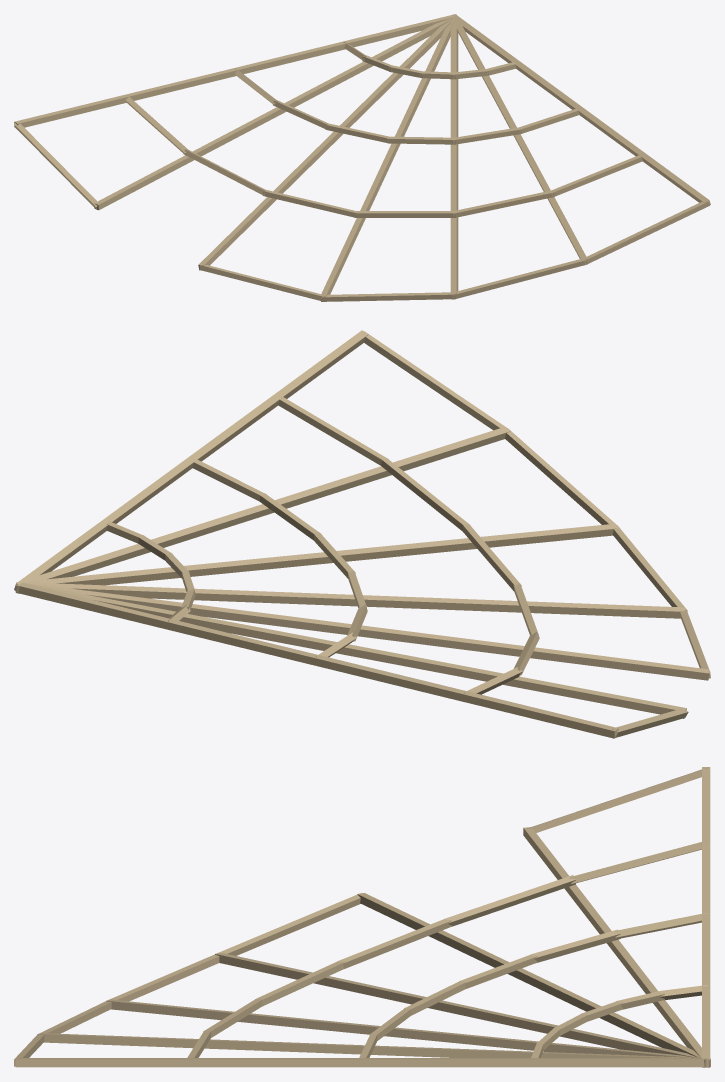
Rendered from mdvl_dungeon_web_01.glb.
The picture shows the model from 3 angles, top to bottom: view 1: azimuth 30°, elevation 25°; view 2: azimuth 150°, elevation 25°; view 3: azimuth 270°, elevation 25°; orthographic projection. The views are drawn at different scales.
Parts seen in each view (by area): view 1: mdvl_dungeon_web_01; view 2: mdvl_dungeon_web_01; view 3: mdvl_dungeon_web_01.
Boxes of the visible parts, bbox=[...] form: mdvl_dungeon_web_01: bbox=[14, 14, 710, 301]; mdvl_dungeon_web_01: bbox=[14, 330, 710, 738]; mdvl_dungeon_web_01: bbox=[14, 767, 710, 1067].
Size of the model in its own units: 0.6295 by 0.1094 by 0.6277.
Materials: 1 (1 with a texture image).
